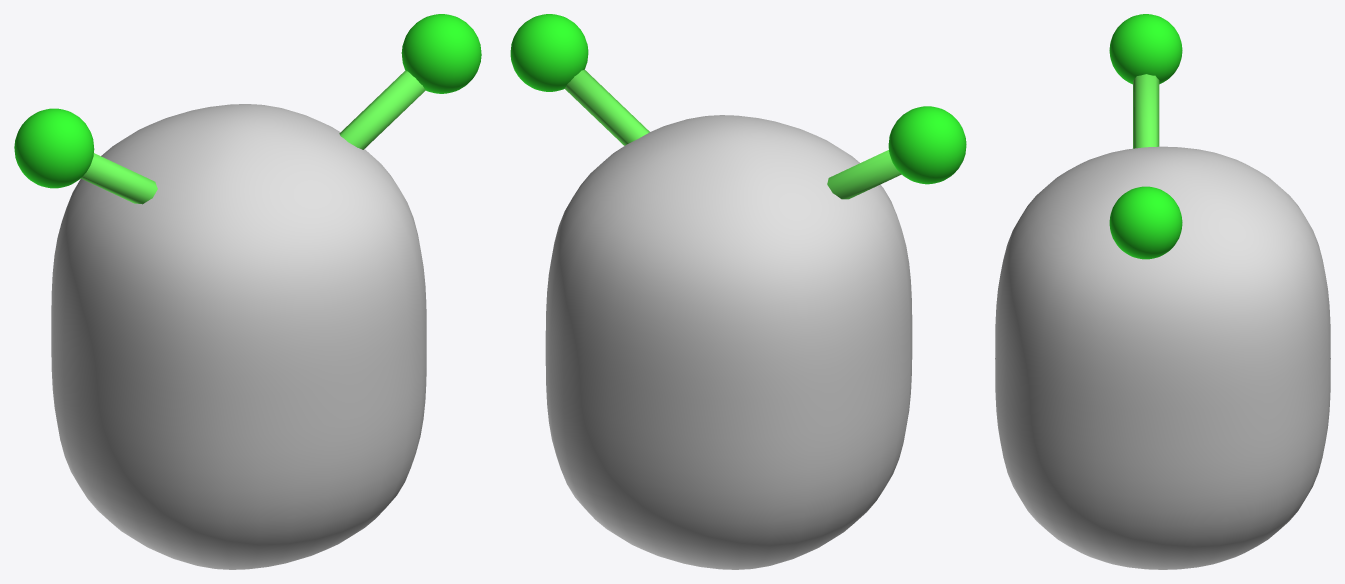
File: Alien Water Melon.fbx
3 views of the same model, side by side, from view 1: azimuth 30°, elevation 25°; view 2: azimuth 150°, elevation 25°; view 3: azimuth 270°, elevation 25° (orthographic). The views are drawn at different scales.
Parts seen in each view (by area): view 1: Cube, Sphere; view 2: Cube, Sphere; view 3: Cube, Sphere.
Boxes of the visible parts, x1,y1,x2,y2 form: Cube: (51,104,426,569); Sphere: (14,14,481,204); Cube: (545,115,912,569); Sphere: (510,14,966,199); Cube: (995,146,1330,569); Sphere: (1109,14,1182,259).
Bounding box in the file's own units: 262816 × 271996 × 183333.
